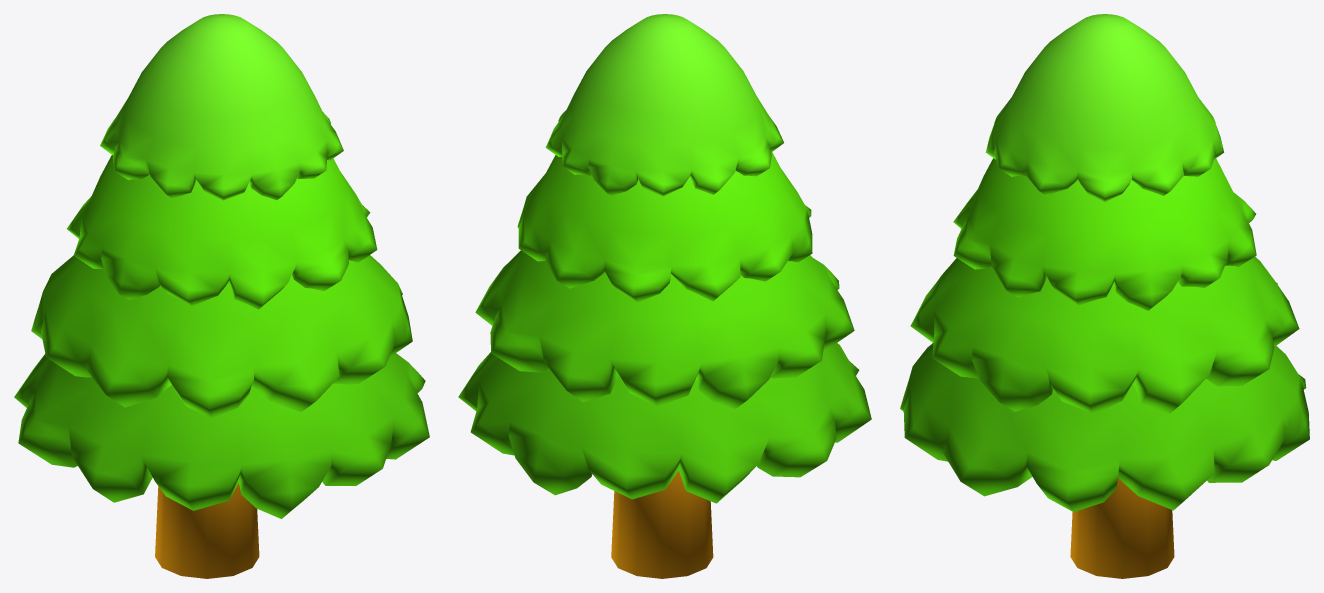
File: Plant_Pine_02.fbx
The picture shows the model from 3 angles, left to right: view 1: azimuth 30°, elevation 25°; view 2: azimuth 150°, elevation 25°; view 3: azimuth 270°, elevation 25°; orthographic projection. The views are drawn at different scales.
Visible parts, largest first — view 1: Plant_Pine_02; view 2: Plant_Pine_02; view 3: Plant_Pine_02.
Boxes of the visible parts, x1,y1,x2,y2 form: Plant_Pine_02: (14,14,429,578); Plant_Pine_02: (458,14,871,578); Plant_Pine_02: (900,14,1309,578).
Size of the model in its own units: 227 by 319 by 219.
